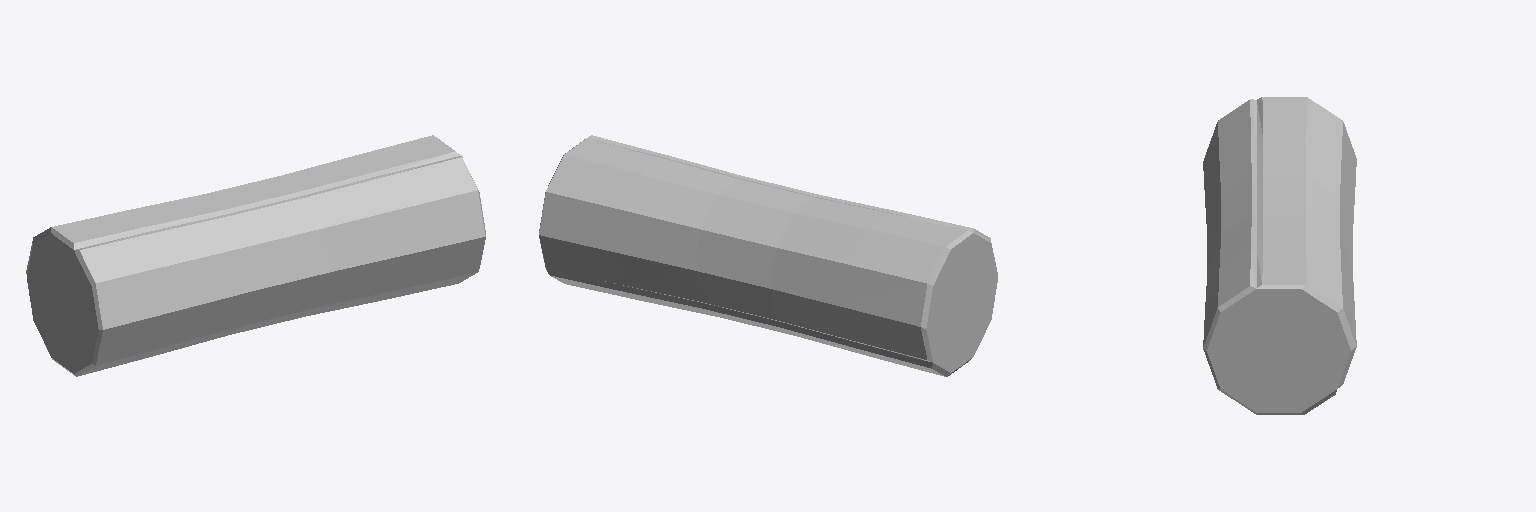
The model's file is Wood.obj.
3 views of the same model, side by side, from view 1: azimuth 30°, elevation 25°; view 2: azimuth 150°, elevation 25°; view 3: azimuth 270°, elevation 25° (orthographic).
Parts seen in each view (by area): view 1: Wood_Cylinder; view 2: Wood_Cylinder; view 3: Wood_Cylinder.
Part boxes in pixels (bbox=[...]): Wood_Cylinder: bbox=[26, 135, 485, 376]; Wood_Cylinder: bbox=[539, 135, 997, 376]; Wood_Cylinder: bbox=[1203, 97, 1356, 414].
Bounding box in the file's own units: 6.36 × 2.06 × 2.19.